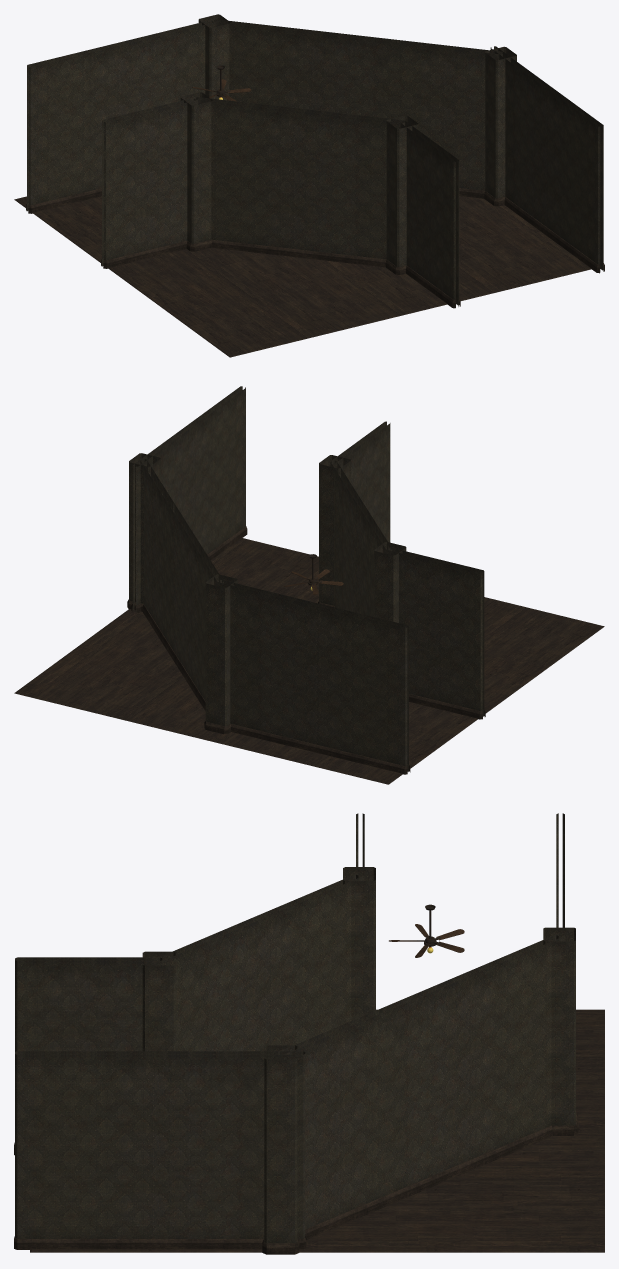
File: CorridorToAct2.fbx
The picture shows the model from 3 angles, top to bottom: view 1: azimuth 30°, elevation 25°; view 2: azimuth 150°, elevation 25°; view 3: azimuth 270°, elevation 25°; orthographic projection. The views are drawn at different scales.
Visible parts, largest first — view 1: wall_2_1.003, wall_2_1.002, wall_2_1.001, floor_ceiling_1.002, wall_2_1.004, wall_1_1_half.001, floor_ceiling_1.003, wall_1_1_half.002, floor_ceiling_1.001, pillar_2.012, pillar_2.014, pillar_2.013 (+1 smaller); view 2: wall_2_1.001, floor_ceiling_1.004, wall_1_1_half.001, wall_2_1.004, wall_2_1.002, floor_ceiling_1.002, floor_ceiling_1.001, wall_2_1.003, floor_ceiling_1.003, pillar_2.011, wall_1_1_half.002, pillar_2.014 (+2 smaller); view 3: wall_2_1.004, wall_2_1.002, wall_2_1.003, floor_ceiling_1.004, wall_1_1_half.002, pillar_2.013, pillar_2.011, pillar_2.012, floor_ceiling_1.001, pillar_2.014, floor_ceiling_1.003, wall_2_1.001 (+1 smaller).
Boxes of the visible parts, x1,y1,x2,y2 form: wall_2_1.003: (194, 97, 405, 267); wall_2_1.002: (212, 19, 503, 198); wall_2_1.001: (26, 19, 217, 213); floor_ceiling_1.002: (122, 250, 416, 357); wall_2_1.004: (490, 46, 604, 273); wall_1_1_half.001: (101, 97, 199, 268); floor_ceiling_1.003: (352, 196, 591, 311); wall_1_1_half.002: (400, 120, 460, 308); floor_ceiling_1.001: (14, 196, 234, 277); pillar_2.012: (180, 92, 212, 251); pillar_2.014: (385, 115, 418, 274); pillar_2.013: (484, 46, 516, 206); wall_2_1.001: (218, 580, 410, 774); floor_ceiling_1.004: (14, 614, 210, 738); wall_1_1_half.001: (386, 547, 485, 719); wall_2_1.004: (131, 386, 247, 612); wall_2_1.002: (140, 459, 223, 710); floor_ceiling_1.002: (484, 597, 604, 705); floor_ceiling_1.001: (200, 702, 495, 784); wall_2_1.003: (330, 460, 392, 616); floor_ceiling_1.003: (123, 538, 318, 619); pillar_2.011: (204, 574, 237, 734); wall_1_1_half.002: (331, 421, 390, 542); pillar_2.014: (318, 455, 351, 606); wall_2_1.004: (14, 1051, 306, 1249); wall_2_1.002: (278, 933, 564, 1239); wall_2_1.003: (156, 873, 364, 1051); floor_ceiling_1.004: (317, 1130, 604, 1252); wall_1_1_half.002: (14, 957, 162, 1155); pillar_2.013: (262, 1045, 299, 1254); pillar_2.011: (543, 927, 578, 1135); pillar_2.012: (343, 867, 375, 1020); floor_ceiling_1.001: (376, 1009, 604, 1130); pillar_2.014: (142, 951, 175, 1051); floor_ceiling_1.003: (30, 1235, 318, 1252); wall_2_1.001: (556, 813, 564, 940).
Bounding box in the file's own units: 819 × 301 × 827.
